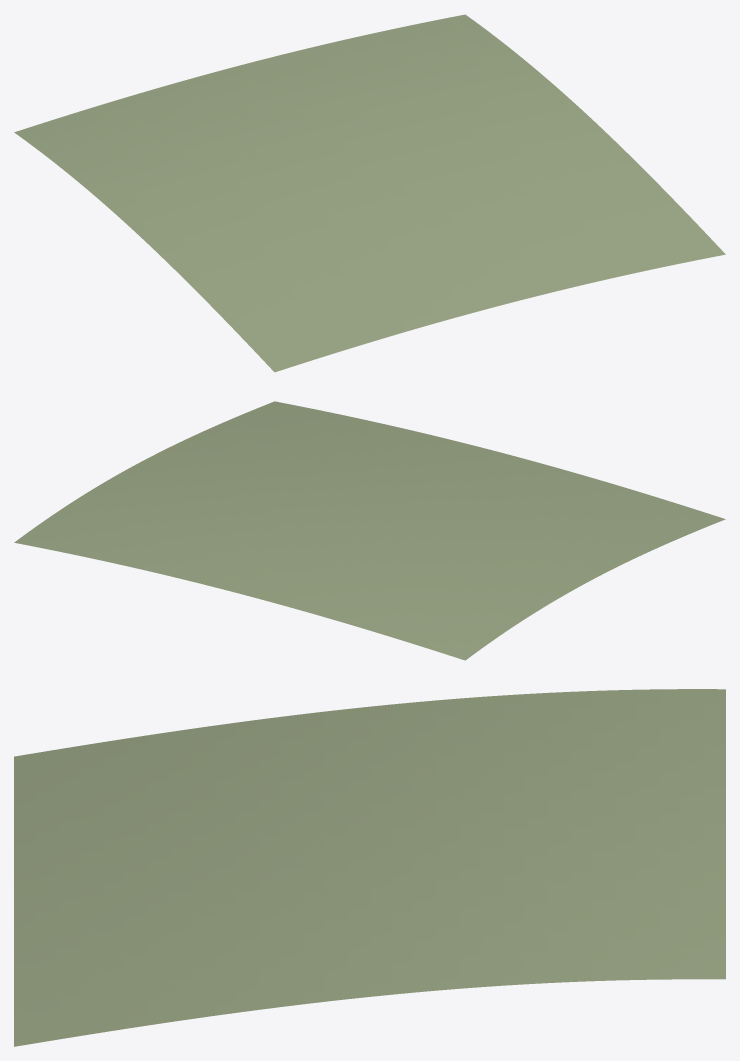
The model's file is valley-6-15.glb.
3 renders of one model, top to bottom at view 1: azimuth 30°, elevation 25°; view 2: azimuth 150°, elevation 25°; view 3: azimuth 270°, elevation 25°, orthographic. The views are drawn at different scales.
Parts seen in each view (by area): view 1: valley-6-15; view 2: valley-6-15; view 3: valley-6-15.
Boxes of the visible parts, x1,y1,x2,y2 form: valley-6-15: (14,14,725,372); valley-6-15: (14,401,725,660); valley-6-15: (14,689,725,1046).
Size of the model in its own units: 256 by 33.49 by 256.
